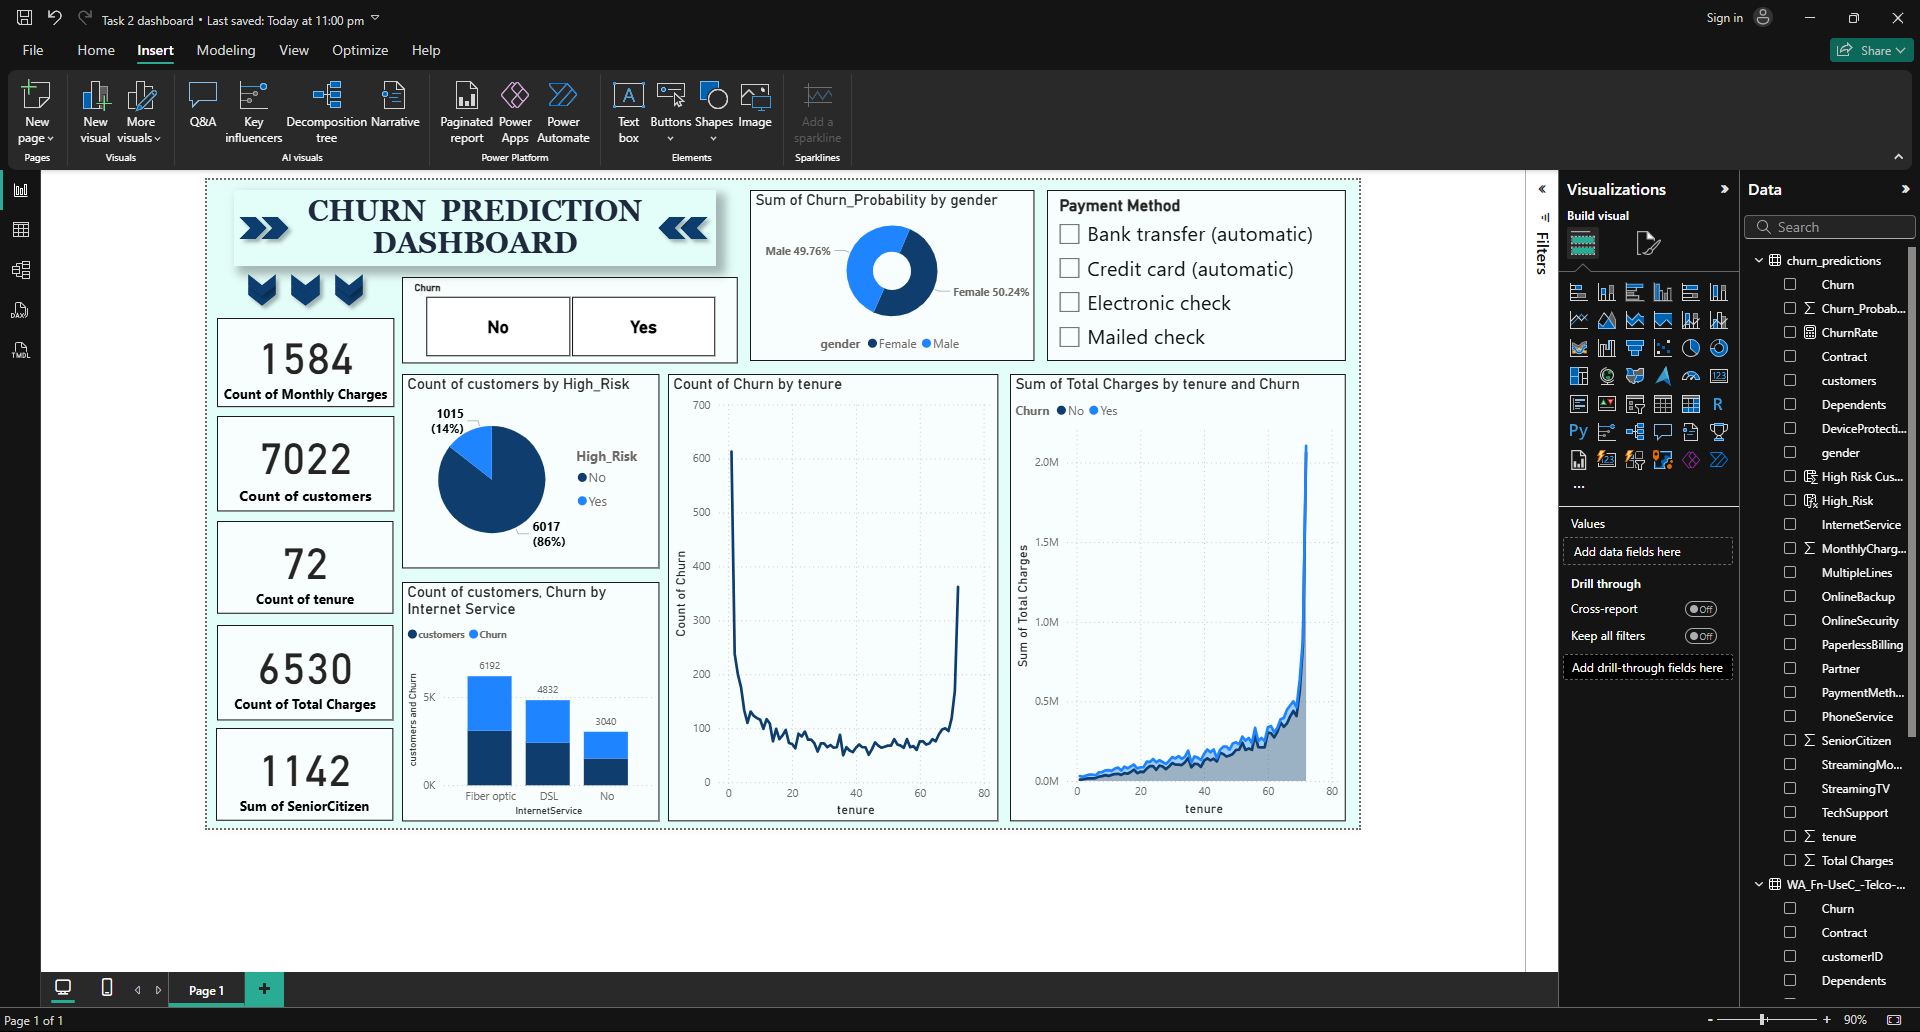

The page's visual inventory and layout, read from the dashboard file:
{"tool":"powerbi","page":{"name":"Page 1","canvas":[1280,720],"ordinal":0},"visuals":[{"type":"stackedAreaChart","fields":{"Y":["Sum(churn_predictions.TotalCharges)"],"Category":["churn_predictions.tenure"],"Series":["churn_predictions.Churn"]},"box":[892.2,215.6,373.3,496.7],"z":0},{"type":"lineStackedColumnComboChart","title":"Count of customers, Churn by Internet Service","fields":{"Category":["churn_predictions.InternetService"],"Y":["CountNonNull(churn_predictions.customers)","CountNonNull(churn_predictions.Churn)"]},"box":[216.7,446.7,285.6,265.6],"z":1000},{"type":"card","fields":{"Values":["Count(churn_predictions.TotalCharges)"]},"box":[11.1,494.4,195.6,105.6],"z":2000},{"type":"lineChart","fields":{"Category":["churn_predictions.tenure"],"Y":["CountNonNull(churn_predictions.Churn)"]},"box":[512.2,215.6,366.7,496.7],"z":3000},{"type":"slicer","fields":{"Values":["churn_predictions.PaymentMethod"]},"box":[933.3,11.1,332.2,190],"z":4000},{"type":"donutChart","fields":{"Y":["Sum(churn_predictions.Churn_Probability)"],"Category":["churn_predictions.gender"]},"box":[603.3,11.1,315.6,190],"z":5000},{"type":"card","fields":{"Values":["Count(churn_predictions.tenure)"]},"box":[11.1,378.9,195.6,103.3],"z":6000},{"type":"slicer","fields":{"Values":["churn_predictions.Churn"]},"box":[216.7,107.8,373.3,95.6],"z":7000},{"type":"card","fields":{"Values":["Sum(churn_predictions.SeniorCitizen)"]},"box":[10,608.9,196.7,103.3],"z":8000},{"type":"pieChart","fields":{"Y":["CountNonNull(churn_predictions.customers)"],"Category":["churn_predictions.High_Risk"]},"box":[216.7,215.6,285.6,215.6],"z":9000},{"type":"card","fields":{"Values":["Count(churn_predictions.MonthlyCharges)"]},"box":[11.1,153.3,196.7,98.9],"z":10000},{"type":"card","fields":{"Values":["Count(churn_predictions.customers)"]},"box":[11.1,262.2,196.7,105.6],"z":11000},{"type":"textbox","box":[30,11.1,535.6,84.4],"z":12000},{"type":"shape","box":[84.4,95.6,50,42.2],"z":13000},{"type":"shape","box":[516.7,32.2,48.9,42.2],"z":14000},{"type":"shape","box":[492.2,32.2,48.9,42.2],"z":15000},{"type":"shape","box":[84.4,106.7,50,42.2],"z":16000},{"type":"shape","box":[51.1,32.2,48.9,42.2],"z":17000},{"type":"shape","box":[26.7,32.2,48.9,42.2],"z":18000},{"type":"shape","box":[133.3,106.7,48.9,42.2],"z":18001},{"type":"shape","box":[133.3,95.6,48.9,42.2],"z":18002},{"type":"shape","box":[36.7,106.7,48.9,42.2],"z":18003},{"type":"shape","box":[36.7,95.6,48.9,42.2],"z":18004}]}

Visuals, with their boxes on the page's 1280x720 design canvas (x1, y1, x2, y2). These are canvas units, not pixel positions in the 1920x1032 screenshot, which may show the page scaled, cropped or inside an application window:
stackedAreaChart - Sum(churn_predictions.TotalCharges) x churn_predictions.tenure: {"left": 892, "top": 216, "right": 1266, "bottom": 712}
"Count of customers, Churn by Internet Service" lineStackedColumnComboChart: {"left": 217, "top": 447, "right": 502, "bottom": 712}
card - Count(churn_predictions.TotalCharges): {"left": 11, "top": 494, "right": 207, "bottom": 600}
lineChart - churn_predictions.tenure x CountNonNull(churn_predictions.Churn): {"left": 512, "top": 216, "right": 879, "bottom": 712}
slicer - churn_predictions.PaymentMethod: {"left": 933, "top": 11, "right": 1266, "bottom": 201}
donutChart - Sum(churn_predictions.Churn_Probability) x churn_predictions.gender: {"left": 603, "top": 11, "right": 919, "bottom": 201}
card - Count(churn_predictions.tenure): {"left": 11, "top": 379, "right": 207, "bottom": 482}
slicer - churn_predictions.Churn: {"left": 217, "top": 108, "right": 590, "bottom": 203}
card - Sum(churn_predictions.SeniorCitizen): {"left": 10, "top": 609, "right": 207, "bottom": 712}
pieChart - CountNonNull(churn_predictions.customers) x churn_predictions.High_Risk: {"left": 217, "top": 216, "right": 502, "bottom": 431}
card - Count(churn_predictions.MonthlyCharges): {"left": 11, "top": 153, "right": 208, "bottom": 252}
card - Count(churn_predictions.customers): {"left": 11, "top": 262, "right": 208, "bottom": 368}
textbox: {"left": 30, "top": 11, "right": 566, "bottom": 96}
shape: {"left": 84, "top": 96, "right": 134, "bottom": 138}
shape: {"left": 517, "top": 32, "right": 566, "bottom": 74}
shape: {"left": 492, "top": 32, "right": 541, "bottom": 74}
shape: {"left": 84, "top": 107, "right": 134, "bottom": 149}
shape: {"left": 51, "top": 32, "right": 100, "bottom": 74}
shape: {"left": 27, "top": 32, "right": 76, "bottom": 74}
shape: {"left": 133, "top": 107, "right": 182, "bottom": 149}
shape: {"left": 133, "top": 96, "right": 182, "bottom": 138}
shape: {"left": 37, "top": 107, "right": 86, "bottom": 149}
shape: {"left": 37, "top": 96, "right": 86, "bottom": 138}
